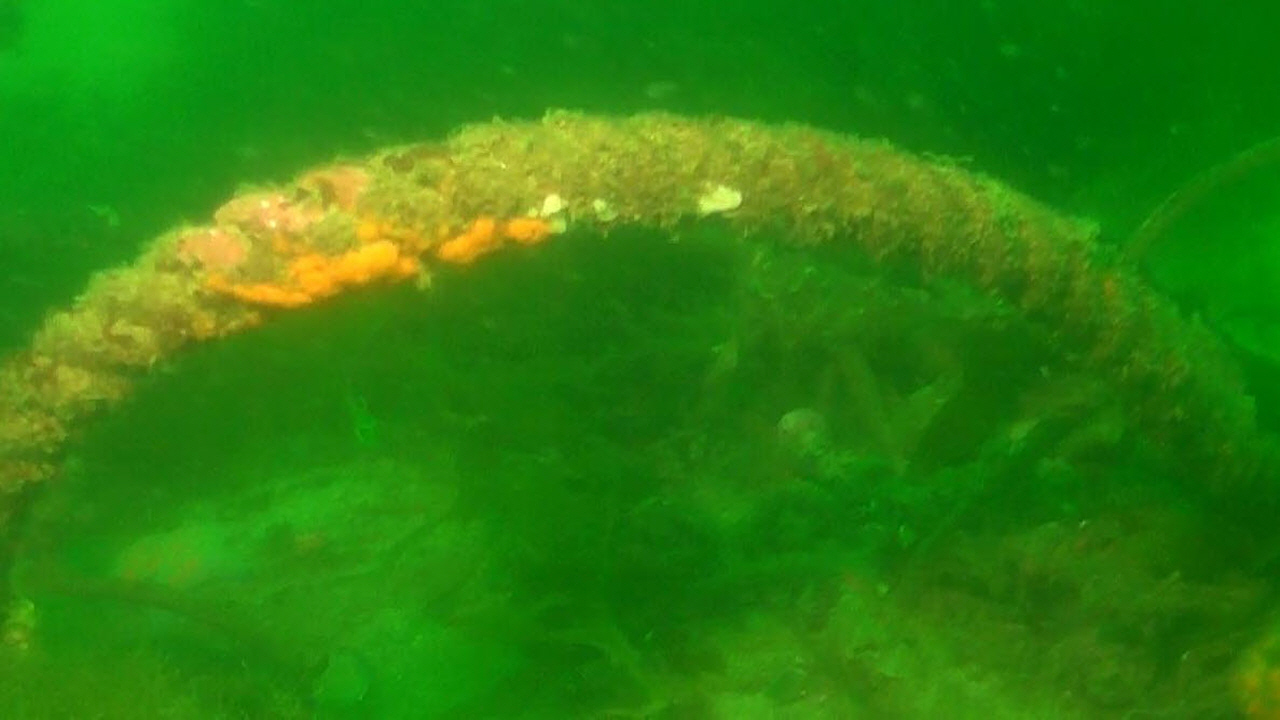rope: (0, 109, 1280, 500)
